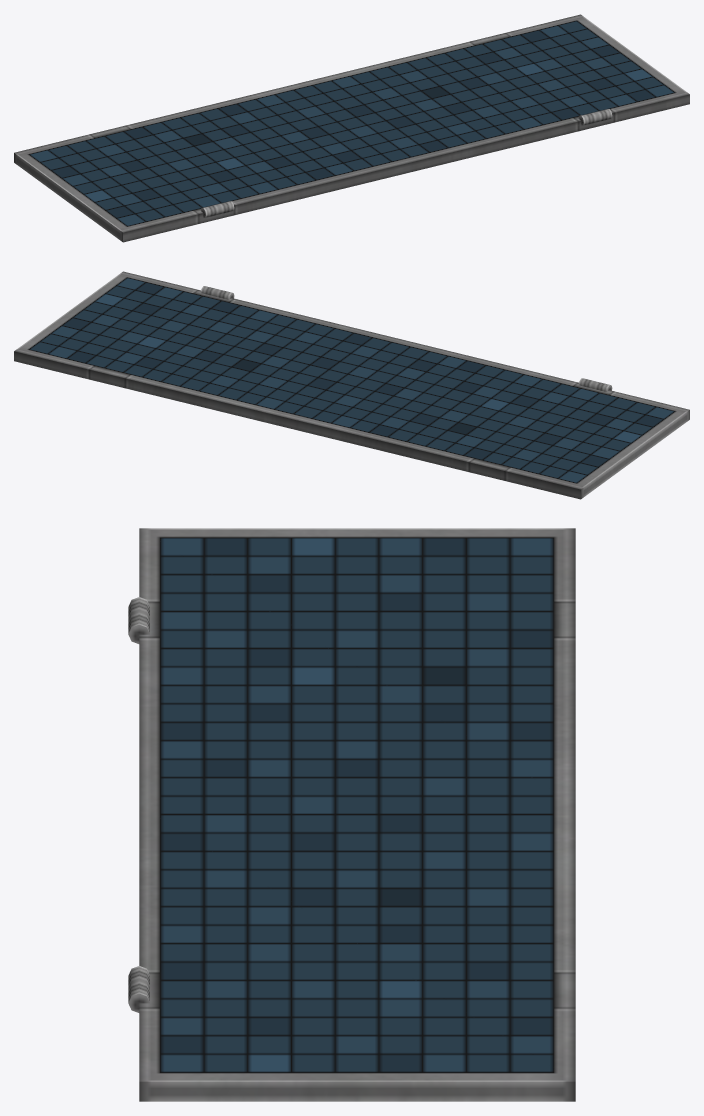
The model's file is root panel.obj.
3 renders of one model, top to bottom at view 1: azimuth 30°, elevation 25°; view 2: azimuth 150°, elevation 25°; view 3: azimuth 270°, elevation 25°, orthographic. The views are drawn at different scales.
Visible parts, largest first — view 1: 1; view 2: 1; view 3: 1.
Part boxes in pixels (box(x1,y1,x2,y2)): 1: box(14, 14, 689, 242); 1: box(14, 271, 689, 499); 1: box(128, 528, 575, 1101).
Bounding box in the file's own units: 1.5 × 0.0375 × 0.5125.
1 material, 1 textured.
